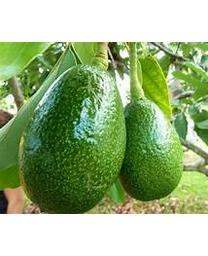avocado: (17, 64, 126, 214), (114, 98, 183, 202)
